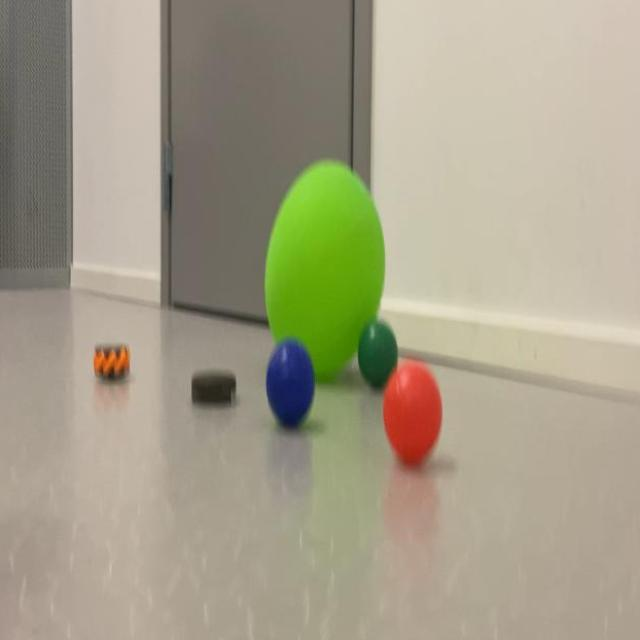blue ball: (263, 346, 314, 434)
green ball: (362, 332, 394, 373)
red ball: (380, 371, 448, 470)
